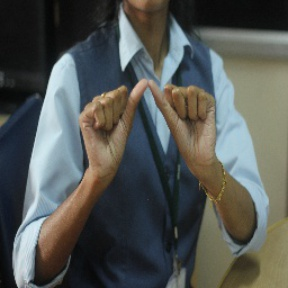A: (87, 70, 210, 165)
